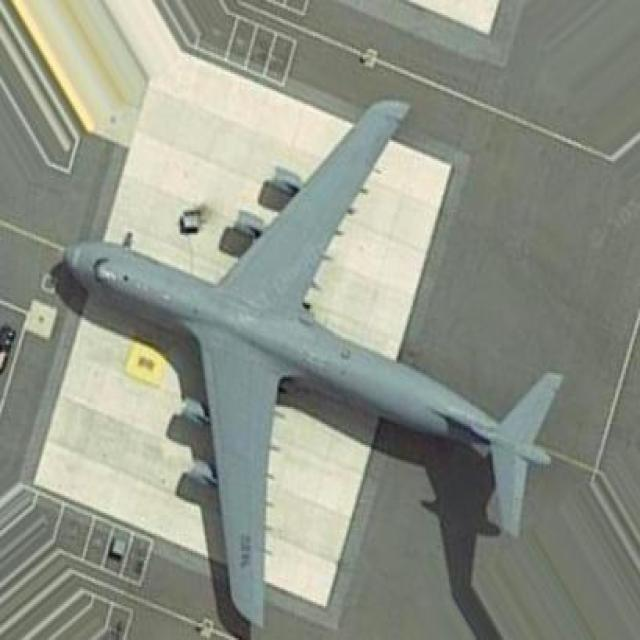C-5_TopDown: (51, 94, 570, 640)
